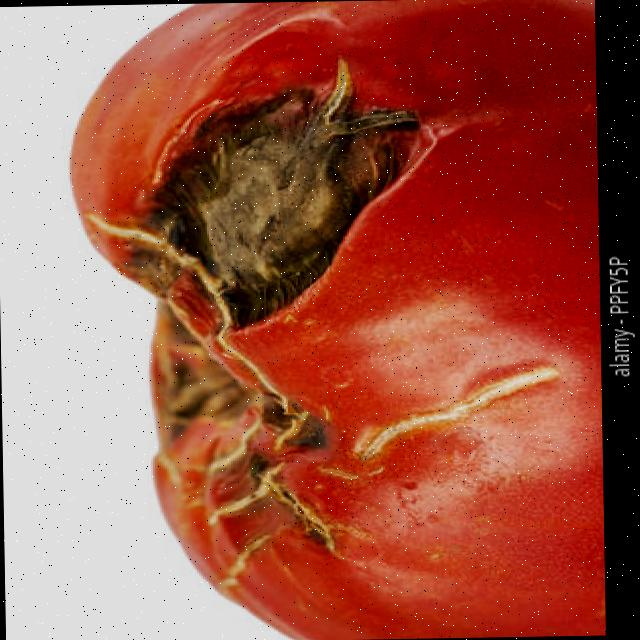Rotten: (65, 0, 602, 640)
